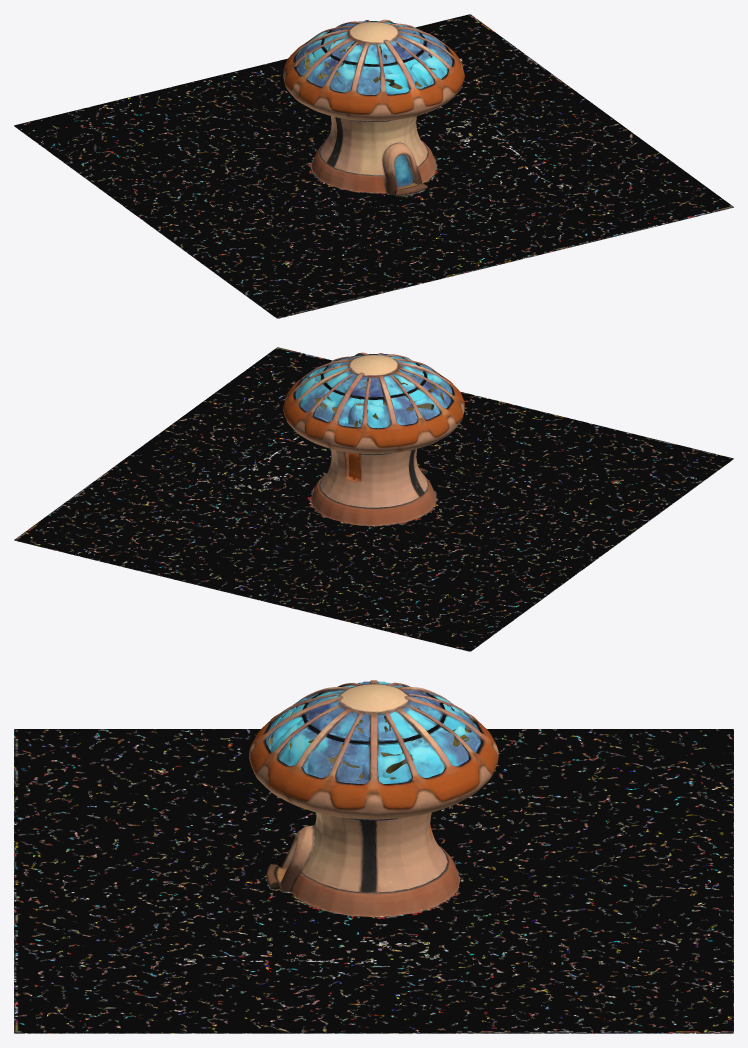
File: kupol-grib.glb
3 renders of one model, top to bottom at view 1: azimuth 30°, elevation 25°; view 2: azimuth 150°, elevation 25°; view 3: azimuth 270°, elevation 25°, orthographic. The views are drawn at different scales.
Parts seen in each view (by area): view 1: geometry_0; view 2: geometry_0; view 3: geometry_0.
Boxes of the visible parts, x1,y1,x2,y2 form: geometry_0: [14, 14, 733, 318]; geometry_0: [14, 347, 733, 651]; geometry_0: [14, 680, 733, 1033].
Bounding box in the file's own units: 0.9841 × 0.2916 × 0.9842.
Materials: 1 (1 with a texture image).
